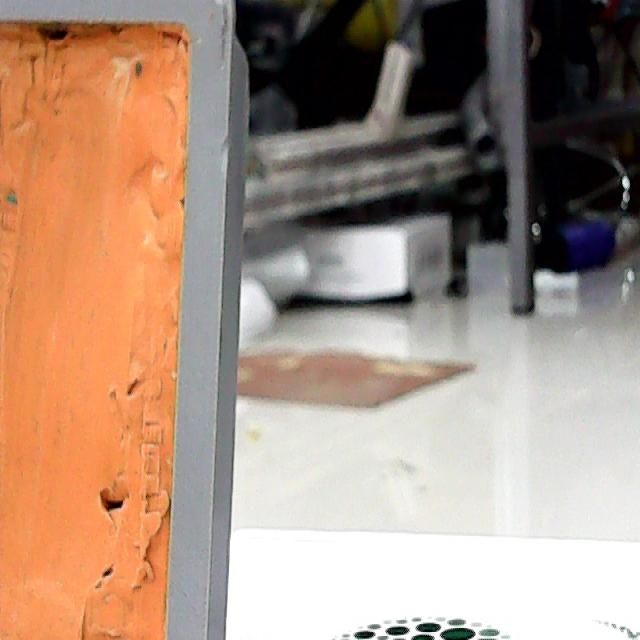block: (0, 0, 263, 639)
